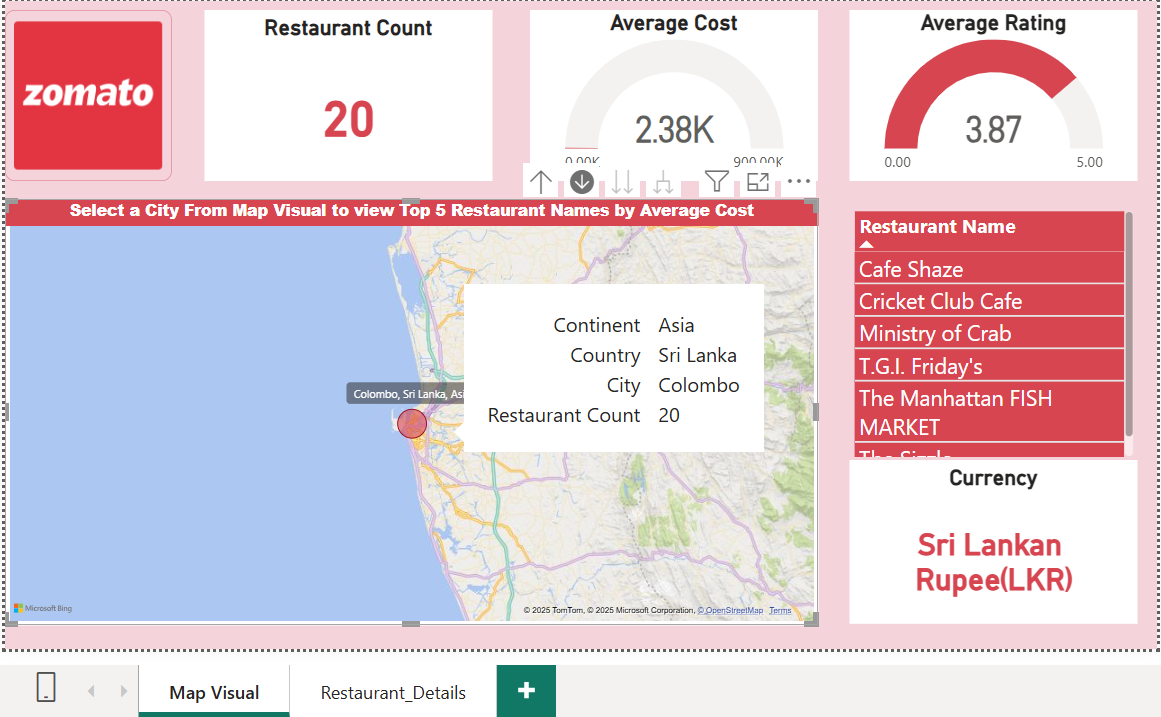

Layout of this report page (visuals, bound fields, positions):
{"tool":"powerbi","page":{"name":"Map Visual","canvas":[1280,720],"ordinal":0},"visuals":[{"type":"map","title":"Select a City From Map Visual to view Top 5 Restaurant Names by Average Cost","fields":{"Category":["Zomato Continents.Continent Hierarchy.Continent","Zomato Continents.Continent Hierarchy.Country","Zomato Continents.Continent Hierarchy.City"],"Size":["KPIs.Restaurant Count"]},"box":[0,220,904,474],"z":0},{"type":"tableEx","title":"Top 5 Restaurants By Average Cost","fields":{"Values":["Zomato Continents.Restaurant Name"]},"box":[938,228,320,282],"z":2000},{"type":"gauge","fields":{"Y":["KPIs.Average Rating"]},"box":[938.3,10,320,190],"z":2001},{"type":"gauge","fields":{"Y":["KPIs.Average Cost"]},"box":[583.3,10,320,190],"z":2002},{"type":"image","box":[0,10,185,190],"z":2003},{"type":"card","title":"Restaurant Count","fields":{"Values":["KPIs.Restaurant Count"]},"box":[221.7,10,320,190],"z":2004},{"type":"card","title":"Currency","fields":{"Values":["Min(KPIs.Currency)"]},"box":[938,510,320,182],"z":2006}]}

Visuals, with their boxes on the page's 1280x720 design canvas (x1, y1, x2, y2). These are canvas units, not pixel positions in the 1161x717 screenshot, which may show the page scaled, cropped or inside an application window:
"Select a City From Map Visual to view Top 5 Restaurant Names by Average Cost" map: rect(0, 220, 904, 694)
"Top 5 Restaurants By Average Cost" tableEx: rect(938, 228, 1258, 510)
gauge - KPIs.Average Rating: rect(938, 10, 1258, 200)
gauge - KPIs.Average Cost: rect(583, 10, 903, 200)
image: rect(0, 10, 185, 200)
"Restaurant Count" card: rect(222, 10, 542, 200)
"Currency" card: rect(938, 510, 1258, 692)
